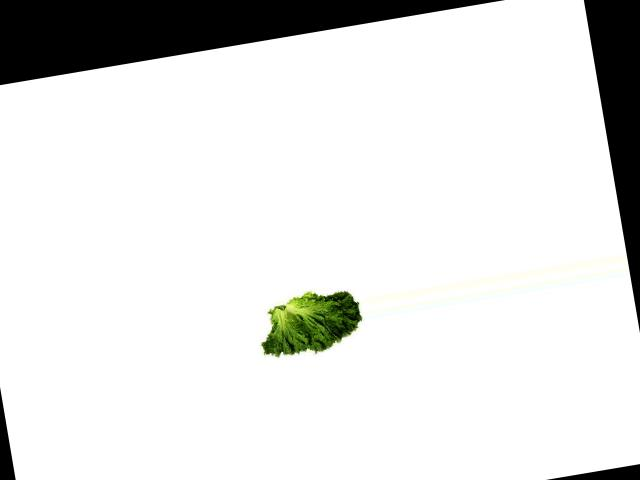lettuce: (254, 280, 368, 368)
